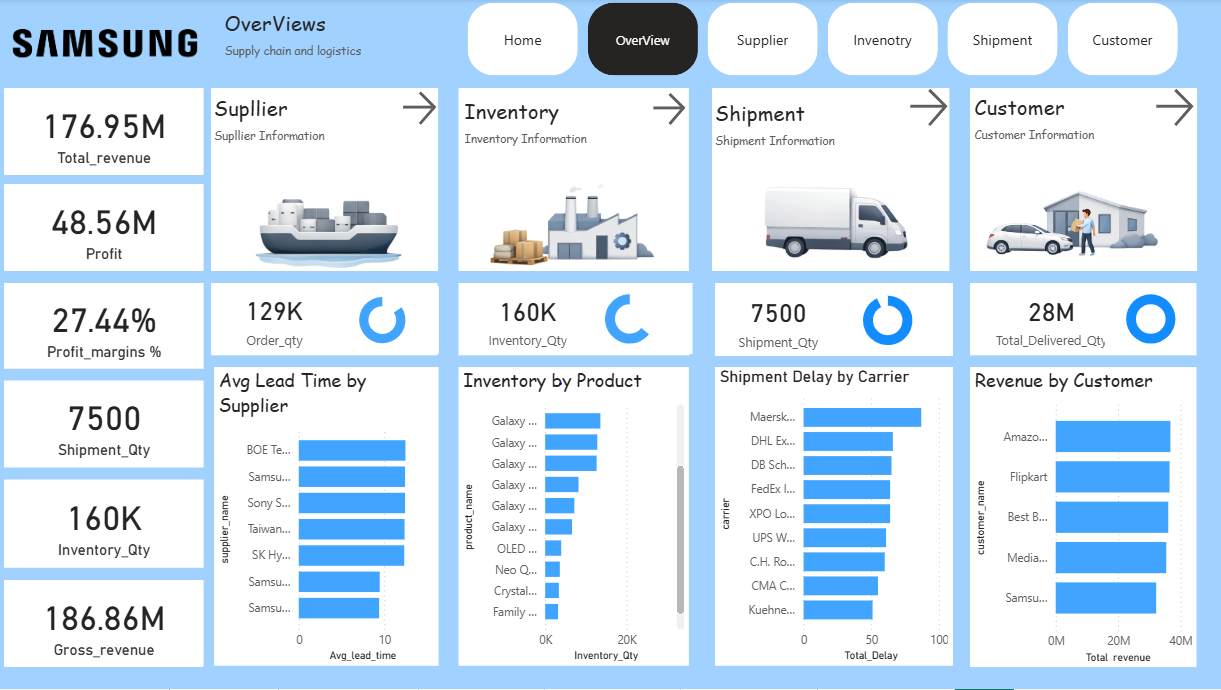

Layout of this report page (visuals, bound fields, positions):
{"tool":"powerbi","page":{"name":"OverView","canvas":[1280,720],"ordinal":1},"visuals":[{"type":"shape","title":"OverViews","box":[236,10.9,273.5,65.6],"z":0},{"type":"group","id":"g1","title":"Group 1","box":[221.9,93.8,1026.9,206.3],"z":0,"group":"g2"},{"type":"shape","box":[221.9,93.8,236.7,190.8],"z":0,"group":"g1"},{"type":"group","id":"g2","title":"Group 2","box":[221.9,89,1041,211.1],"z":1000},{"type":"shape","box":[479.5,93.8,240.2,190.8],"z":1000,"group":"g1"},{"type":"image","box":[251.8,175.7,178,122.7],"z":1000,"group":"g2"},{"type":"image","box":[0,0,214.1,93.8],"z":2000},{"type":"shape","box":[1012.1,93.8,236.7,190.8],"z":2000,"group":"g1"},{"type":"image","box":[779.9,173,181.6,108],"z":2000,"group":"g2"},{"type":"actionButton","box":[415.7,92.2,54.7,45.3],"z":3000,"group":"g2"},{"type":"card","fields":{"Values":["Measure_Table.Total_revenue"]},"box":[6.3,93.8,207.9,90.7],"z":3000},{"type":"shape","box":[744,93.8,247.1,190.8],"z":3000,"group":"g1"},{"type":"actionButton","box":[676.7,93.8,53.1,43.8],"z":4000,"group":"g2"},{"type":"image","box":[1022,167.7,203.1,129.9],"z":4000,"group":"g1"},{"type":"card","fields":{"Values":["Measure_Table.profit"]},"box":[6.3,193.8,207.9,90.7],"z":4000},{"type":"actionButton","box":[1200.4,89,62.5,50],"z":5000,"group":"g2"},{"type":"image","box":[494.5,164.2,196.5,135.9],"z":5000,"group":"g1"},{"type":"card","fields":{"Values":["Measure_Table.Profit_margins %"]},"box":[6.3,297,207.9,89.1],"z":5000},{"type":"actionButton","box":[944,89.1,59.4,50],"z":6000,"group":"g2"},{"type":"card","fields":{"Values":["Measure_Table.Total_shipment"]},"box":[6.3,398.6,207.9,90.7],"z":6000},{"type":"shape","title":"Supllier","box":[225.1,100.3,161,64.1],"z":7000,"group":"g2"},{"type":"card","fields":{"Values":["Measure_Table.Inventory_values"]},"box":[6.3,501.7,207.9,92.2],"z":7000},{"type":"shape","title":"Inventory","box":[486.3,103.6,159.4,64.7],"z":8000,"group":"g2"},{"type":"card","fields":{"Values":["Measure_Table.Gross_revenue"]},"box":[6.3,606.4,207.9,90.7],"z":8000},{"type":"shape","title":"Shipment","box":[746.8,104.4,159.4,64.7],"z":9000,"group":"g2"},{"type":"shape","box":[221.9,297,236,75],"z":9000},{"type":"shape","title":"Customer","box":[1018,98.8,159.4,64.7],"z":10000,"group":"g2"},{"type":"shape","box":[479.8,297,240.7,75],"z":10000},{"type":"shape","box":[746.9,296.8,247.9,75.8],"z":11000},{"type":"shape","box":[1012.8,297,236,75],"z":12000},{"type":"card","fields":{"Values":["Measure_Table.Order_qty"]},"box":[221.9,297,131.3,73.5],"z":13000},{"type":"card","fields":{"Values":["Measure_Table.Inventory_Qty"]},"box":[486.3,296.8,131.1,74.2],"z":14000},{"type":"card","fields":{"Values":["Measure_Table.Shipment_Qty"]},"box":[746.9,298.4,131.1,74.2],"z":15000},{"type":"card","fields":{"Values":["Measure_Table.Total_Delivered_Qty"]},"box":[1013.7,296.8,165.8,74.2],"z":16000},{"type":"clusteredBarChart","fields":{"Y":["Measure_Table.Avg_lead_time"],"Category":["supplier.supplier_name"]},"box":[225.8,385.3,233.7,311.1],"z":17000},{"type":"clusteredBarChart","fields":{"Category":["product.product_name"],"Y":["Measure_Table.Inventory_Qty"]},"box":[480,385.3,240,311.1],"z":18000},{"type":"clusteredBarChart","fields":{"Y":["Measure_Table.Total_Delay"],"Category":["fact_shipment.carrier"]},"box":[746.9,385.3,247.9,311.1],"z":19000},{"type":"clusteredBarChart","fields":{"Y":["Measure_Table.Total_revenue"],"Category":["customer.customer_name"]},"box":[1012.8,384.5,236,312.6],"z":20000},{"type":"donutChart","fields":{"Y":["Measure_Table.Defected_Rate","Measure_Table.Order_qty"]},"box":[340.7,300.1,118.8,70.3],"z":21000},{"type":"donutChart","fields":{"Y":["Measure_Table.Safety_stock","Measure_Table.Inventory_Qty"]},"box":[592.1,296.8,131.1,74.2],"z":22000},{"type":"donutChart","fields":{"Y":["Measure_Table.Shipment_Qty","Measure_Table.Total_Delay"]},"box":[860.5,298.4,131.1,74.2],"z":23000},{"type":"donutChart","fields":{"Y":["Measure_Table.Total_Delivered_Qty"]},"box":[1154.2,296.8,94.7,74.2],"z":24000},{"type":"pageNavigator","box":[489.2,4.7,745.5,76.6],"z":25000}]}

Visuals, with their boxes in screenshot pixels (x1, y1, x2, y2), scaled from the page's 1280x720 canvas onto the 1221x690 screenshot:
"OverViews" shape: BBox(225, 10, 486, 73)
"Group 1" group: BBox(212, 90, 1191, 288)
shape: BBox(212, 90, 437, 273)
"Group 2" group: BBox(212, 85, 1205, 288)
shape: BBox(457, 90, 687, 273)
image: BBox(240, 168, 410, 286)
image: BBox(0, 0, 204, 90)
shape: BBox(965, 90, 1191, 273)
image: BBox(744, 166, 917, 269)
actionButton: BBox(397, 88, 449, 132)
card - Measure_Table.Total_revenue: BBox(6, 90, 204, 177)
shape: BBox(710, 90, 945, 273)
actionButton: BBox(646, 90, 696, 132)
image: BBox(975, 161, 1169, 285)
card - Measure_Table.profit: BBox(6, 186, 204, 273)
actionButton: BBox(1145, 85, 1205, 133)
image: BBox(472, 157, 659, 288)
card - Measure_Table.Profit_margins %: BBox(6, 285, 204, 370)
actionButton: BBox(900, 85, 957, 133)
card - Measure_Table.Total_shipment: BBox(6, 382, 204, 469)
"Supllier" shape: BBox(215, 96, 368, 158)
card - Measure_Table.Inventory_values: BBox(6, 481, 204, 569)
"Inventory" shape: BBox(464, 99, 616, 161)
card - Measure_Table.Gross_revenue: BBox(6, 581, 204, 668)
"Shipment" shape: BBox(712, 100, 864, 162)
shape: BBox(212, 285, 437, 356)
"Customer" shape: BBox(971, 95, 1123, 157)
shape: BBox(458, 285, 687, 356)
shape: BBox(712, 284, 949, 357)
shape: BBox(966, 285, 1191, 356)
card - Measure_Table.Order_qty: BBox(212, 285, 337, 355)
card - Measure_Table.Inventory_Qty: BBox(464, 284, 589, 356)
card - Measure_Table.Shipment_Qty: BBox(712, 286, 838, 357)
card - Measure_Table.Total_Delivered_Qty: BBox(967, 284, 1125, 356)
clusteredBarChart - Measure_Table.Avg_lead_time x supplier.supplier_name: BBox(215, 369, 438, 667)
clusteredBarChart - product.product_name x Measure_Table.Inventory_Qty: BBox(458, 369, 687, 667)
clusteredBarChart - Measure_Table.Total_Delay x fact_shipment.carrier: BBox(712, 369, 949, 667)
clusteredBarChart - Measure_Table.Total_revenue x customer.customer_name: BBox(966, 368, 1191, 668)
donutChart - Measure_Table.Defected_Rate x Measure_Table.Order_qty: BBox(325, 288, 438, 355)
donutChart - Measure_Table.Safety_stock x Measure_Table.Inventory_Qty: BBox(565, 284, 690, 356)
donutChart - Measure_Table.Shipment_Qty x Measure_Table.Total_Delay: BBox(821, 286, 946, 357)
donutChart - Measure_Table.Total_Delivered_Qty: BBox(1101, 284, 1191, 356)
pageNavigator: BBox(467, 5, 1178, 78)
